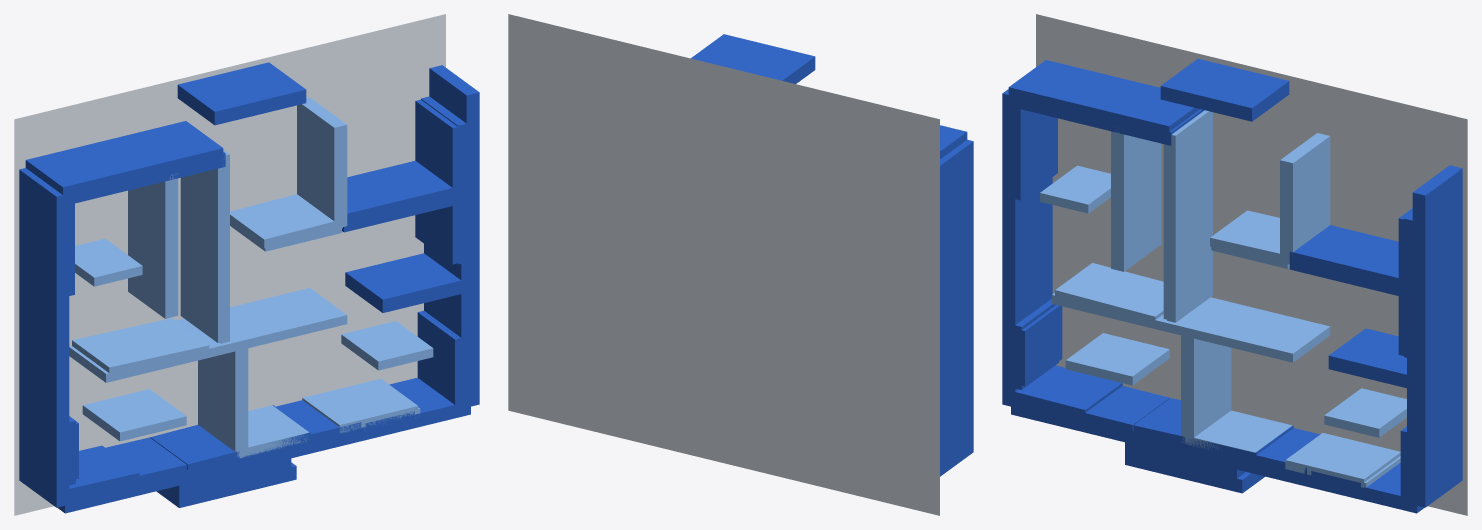
The model's file is ec3a86e0-8eab-4600-a0ec-5efd040b7d55.obj.
The picture shows the model from 3 angles, left to right: view 1: azimuth 30°, elevation 25°; view 2: azimuth 150°, elevation 25°; view 3: azimuth 330°, elevation 25°; orthographic projection.
Bounding box in the file's own units: 20.05 × 17.6 × 3.05.
